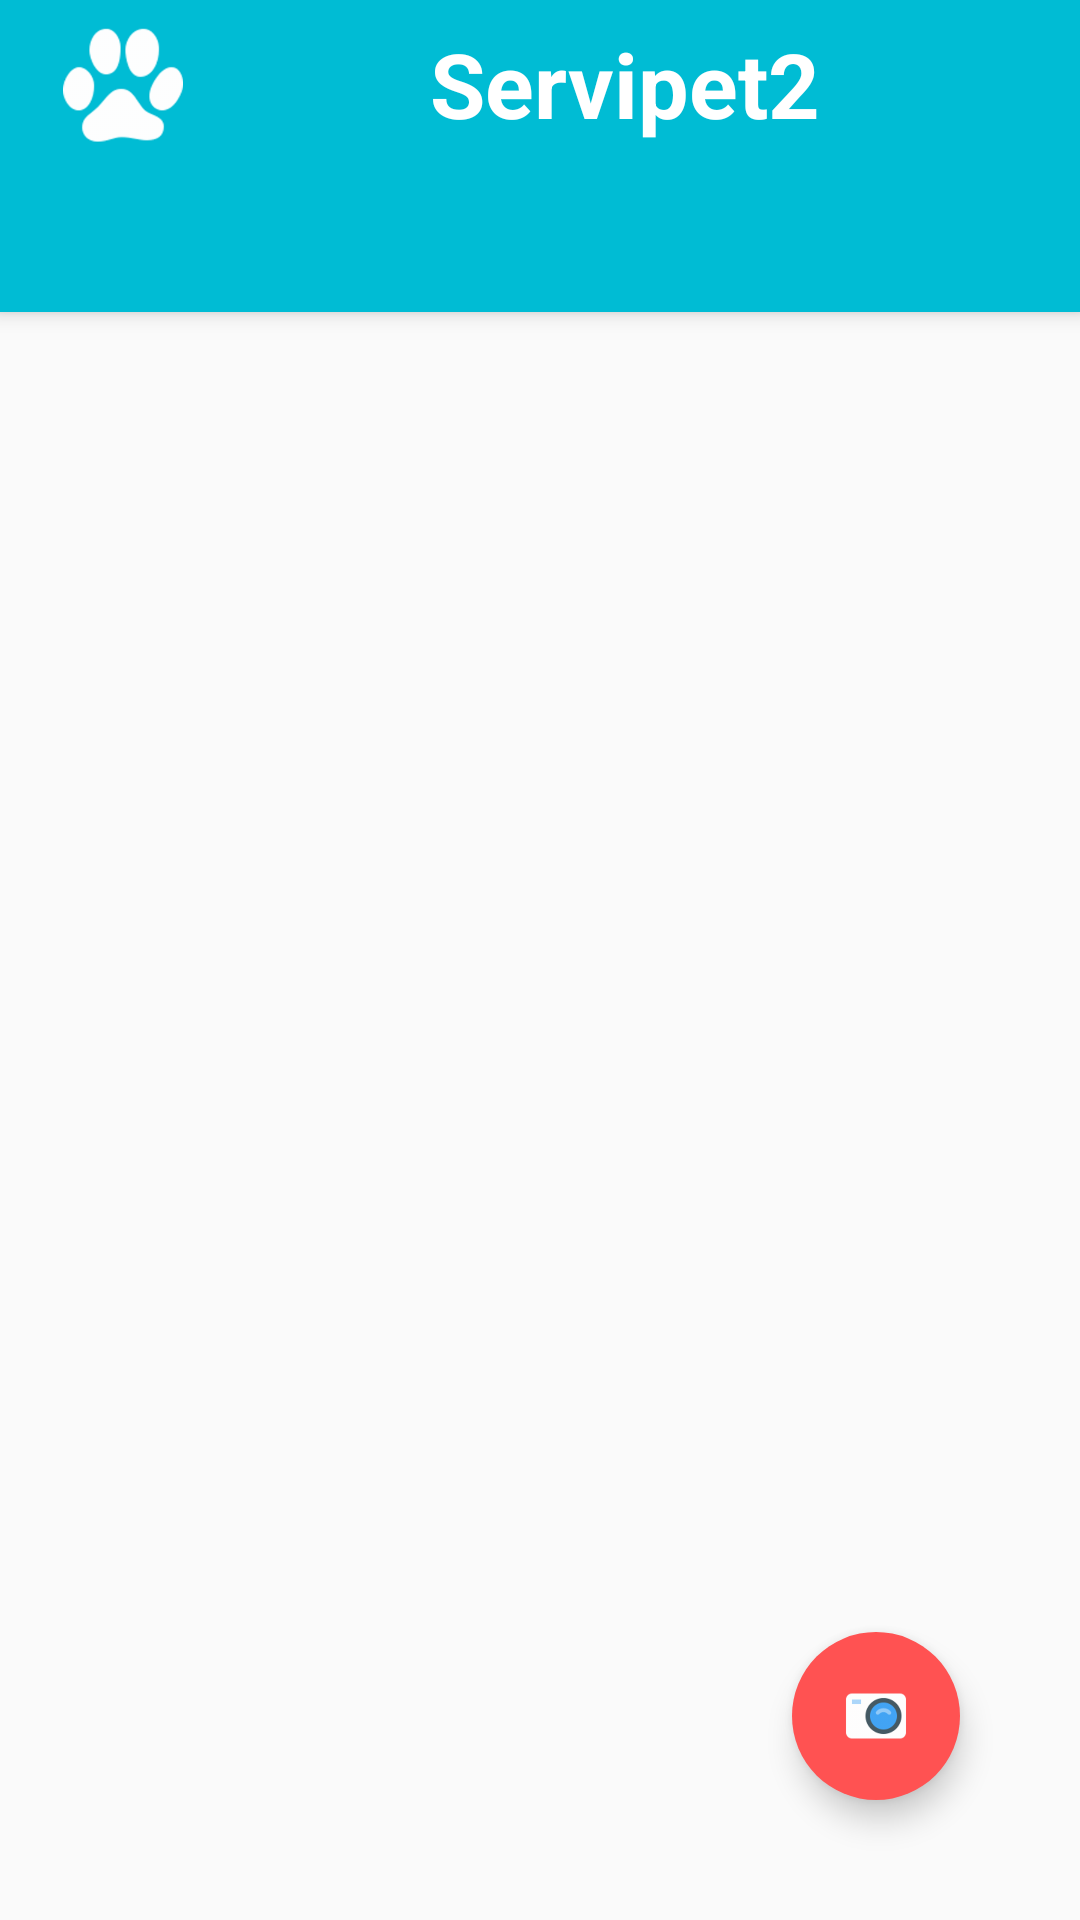

Point at icon controls on the screen. Image size 1080×1920, points as [x,y].
camera: [876,1716]
dogpaw: [123,85]
